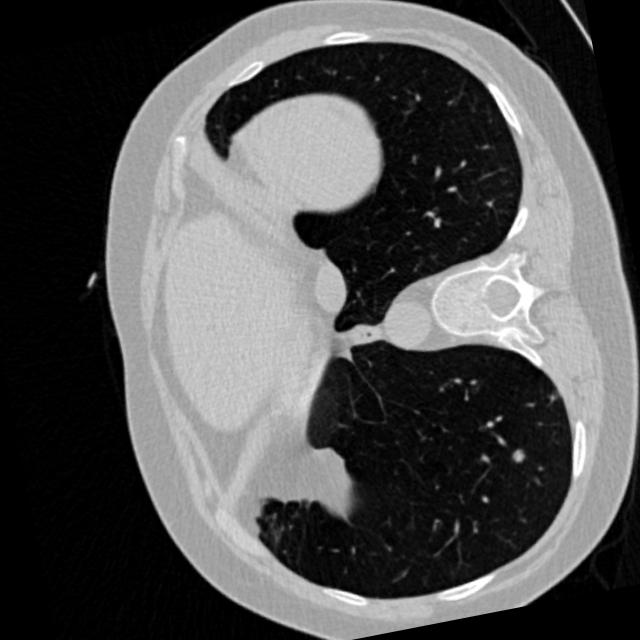nodule: (500, 436, 536, 471)
